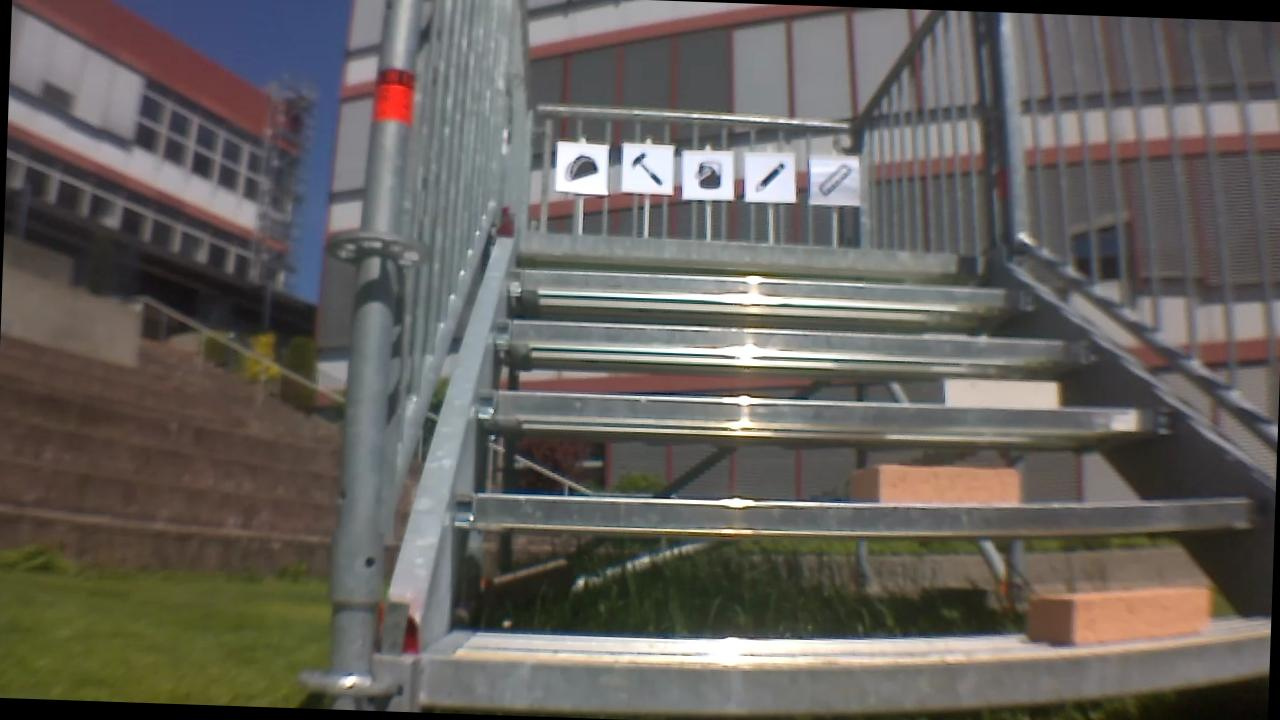brick: (1030, 572, 1210, 649), (845, 461, 1023, 507), (925, 374, 1060, 410)
edge: (421, 602, 1270, 720), (447, 466, 1274, 556), (474, 382, 1177, 443), (491, 319, 1097, 368), (500, 269, 1014, 309), (514, 234, 989, 275)
steps: (379, 230, 1280, 720)
